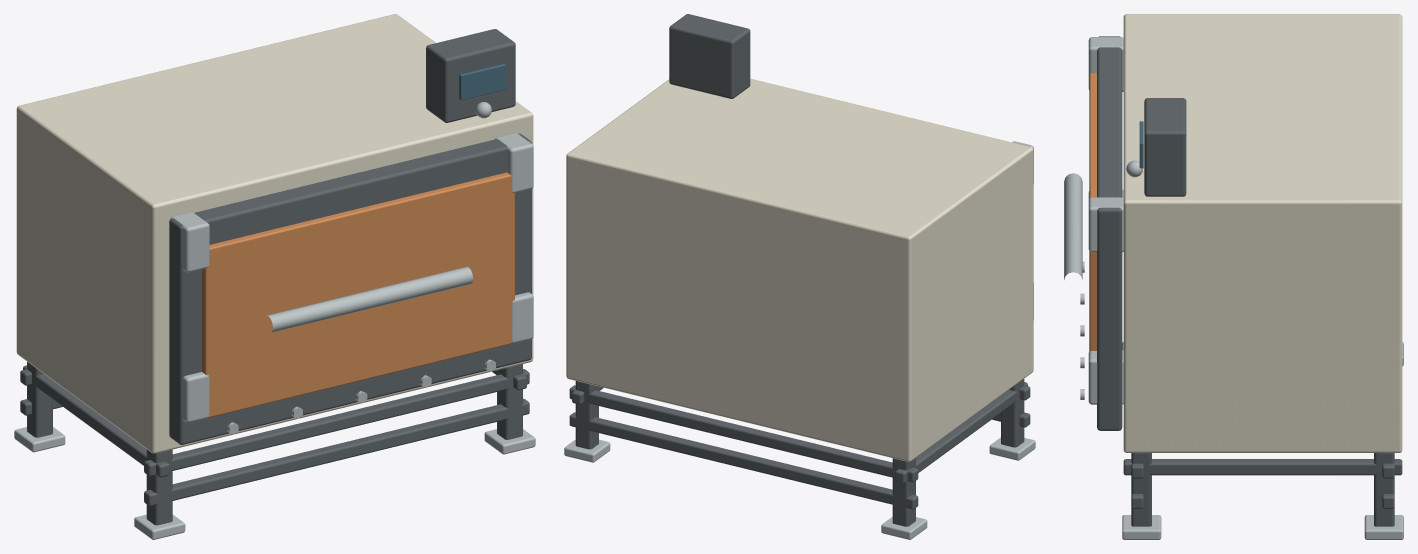
File: glassblowing-studio-and-gallery-annealing-kiln-b2a50196__29585.glb
3 renders of one model, left to right at view 1: azimuth 30°, elevation 25°; view 2: azimuth 150°, elevation 25°; view 3: azimuth 270°, elevation 25°, orthographic. The views are drawn at different scales.
Parts seen in each view (by area): view 1: annealing-kiln; view 2: annealing-kiln; view 3: annealing-kiln.
Part boxes in pixels (x1,y1,x2,y2): annealing-kiln: (14, 14, 535, 539); annealing-kiln: (564, 14, 1035, 539); annealing-kiln: (1064, 14, 1403, 539).
Bounding box in the file's own units: 1.61 × 1.6 × 1.22.
